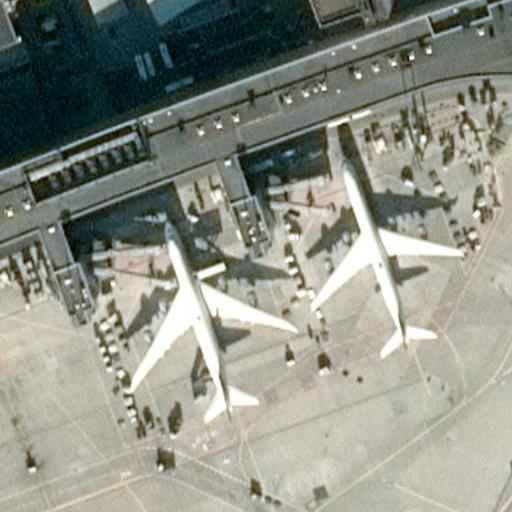Aircraft: (117, 213, 287, 424), (303, 159, 449, 349)
